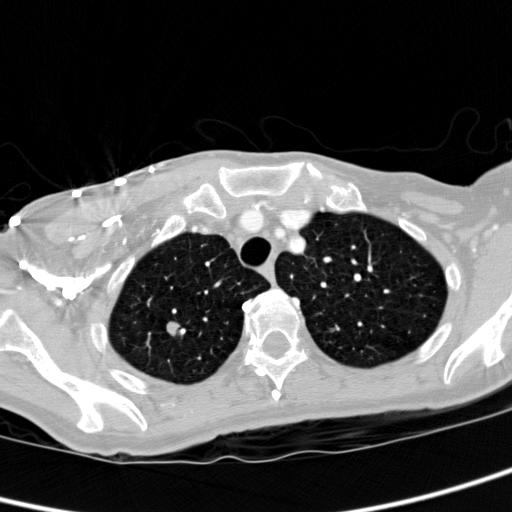nodule: (164, 319, 183, 338)
